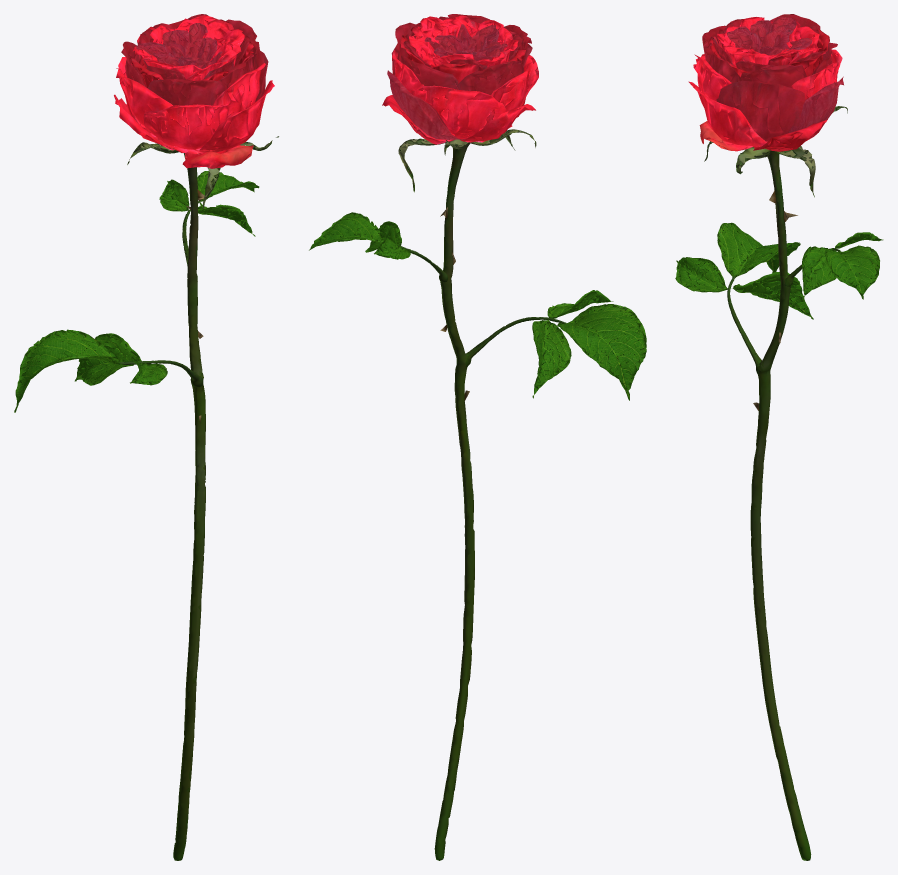
The model's file is hero-rose.glb.
3 views of the same model, side by side, from view 1: azimuth 30°, elevation 25°; view 2: azimuth 150°, elevation 25°; view 3: azimuth 270°, elevation 25° (orthographic). The views are drawn at different scales.
Parts seen in each view (by area): view 1: stem_001_Material.001_0, leaf_001_Material.003_0, petal_021_Material_0, petal_003-5p_Material.007_0, petal_006_Material.015_0, petal_042_Material.011_0, petal_044_Material.004_0, petal_036_Material.013_0, petal_001-5p_Material.009_0, petal_002-5p_Material.008_0, stem_002-1_Material.002_0, petal_041_Material.010_0; view 2: leaf_001_Material.003_0, stem_001_Material.001_0, petal_021_Material_0, petal_003-5p_Material.007_0, petal_006_Material.015_0, petal_040_Material.006_0, petal_041_Material.010_0, petal_036_Material.013_0, petal_002-5p_Material.008_0, stem_002-1_Material.002_0; view 3: stem_001_Material.001_0, leaf_001_Material.003_0, petal_021_Material_0, petal_037_Material.012_0, petal_003-5p_Material.007_0, petal_006_Material.015_0, petal_042_Material.011_0, petal_040_Material.006_0, petal_043_Material.005_0, petal_002-5p_Material.008_0, petal_001-5p_Material.009_0, stem_002-1_Material.002_0 (+1 smaller).
Boxes of the visible parts, left/top/right/bottom form: stem_001_Material.001_0: left=127, top=136, right=278, bottom=860; leaf_001_Material.003_0: left=14, top=171, right=259, bottom=412; petal_021_Material_0: left=118, top=15, right=265, bottom=149; petal_003-5p_Material.007_0: left=121, top=19, right=258, bottom=105; petal_006_Material.015_0: left=136, top=23, right=222, bottom=68; petal_042_Material.011_0: left=194, top=80, right=274, bottom=153; petal_044_Material.004_0: left=182, top=145, right=253, bottom=168; petal_036_Material.013_0: left=116, top=68, right=172, bottom=125; petal_001-5p_Material.009_0: left=138, top=14, right=250, bottom=79; petal_002-5p_Material.008_0: left=129, top=16, right=253, bottom=87; stem_002-1_Material.002_0: left=119, top=201, right=203, bottom=387; petal_041_Material.010_0: left=114, top=94, right=190, bottom=152; leaf_001_Material.003_0: left=309, top=212, right=646, bottom=400; stem_001_Material.001_0: left=398, top=129, right=536, bottom=860; petal_021_Material_0: left=392, top=15, right=538, bottom=139; petal_003-5p_Material.007_0: left=395, top=14, right=532, bottom=95; petal_006_Material.015_0: left=424, top=24, right=507, bottom=60; petal_040_Material.006_0: left=387, top=70, right=464, bottom=139; petal_041_Material.010_0: left=460, top=104, right=535, bottom=142; petal_036_Material.013_0: left=491, top=61, right=532, bottom=111; petal_002-5p_Material.008_0: left=400, top=31, right=525, bottom=83; stem_002-1_Material.002_0: left=399, top=245, right=567, bottom=367; stem_001_Material.001_0: left=704, top=106, right=847, bottom=860; leaf_001_Material.003_0: left=675, top=222, right=883, bottom=319; petal_021_Material_0: left=693, top=17, right=842, bottom=101; petal_037_Material.012_0: left=716, top=80, right=805, bottom=141; petal_003-5p_Material.007_0: left=702, top=14, right=837, bottom=87; petal_006_Material.015_0: left=726, top=16, right=812, bottom=55; petal_042_Material.011_0: left=688, top=81, right=767, bottom=146; petal_040_Material.006_0: left=789, top=76, right=843, bottom=132; petal_043_Material.005_0: left=753, top=119, right=827, bottom=151; petal_002-5p_Material.008_0: left=709, top=28, right=829, bottom=77; petal_001-5p_Material.009_0: left=713, top=19, right=823, bottom=71; stem_002-1_Material.002_0: left=727, top=248, right=840, bottom=374.
Bounding box in the file's own units: 0.1387 × 0.3839 × 0.0879.
Materials: 17 (17 with a texture image).
